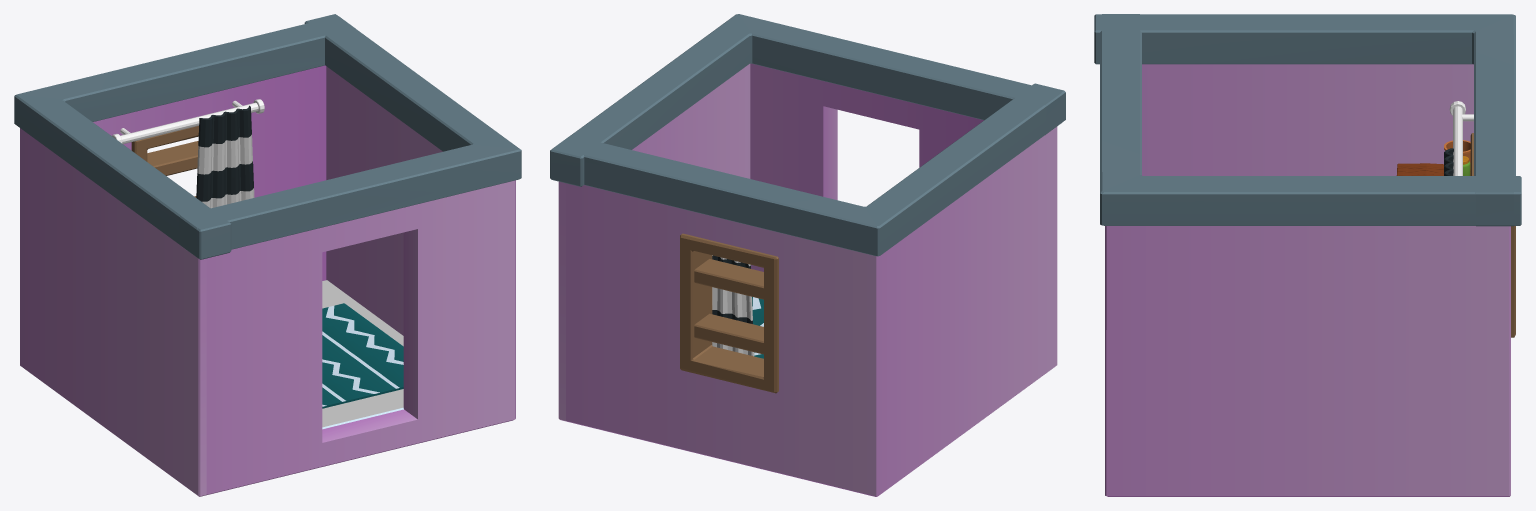
The model's file is TutorialLevel.fbx.
3 renders of one model, left to right at view 1: azimuth 30°, elevation 25°; view 2: azimuth 150°, elevation 25°; view 3: azimuth 270°, elevation 25°, orthographic. The views are drawn at different scales.
Visible parts, largest first — view 1: Wall.001, Wall, TutorialRoom; view 2: Wall, Wall.001, TutorialRoom; view 3: Wall.001, Wall, TutorialRoom, WoodPlank.001.
Part boxes in pixels (x1,y1,x2,y2): Wall.001: (179,14,521,495); Wall: (14,16,355,496); TutorialRoom: (112,99,403,429); Wall: (554,83,1065,496); Wall.001: (550,14,1063,421); TutorialRoom: (680,233,778,393); Wall.001: (1100,14,1521,496); Wall: (1094,14,1515,226); TutorialRoom: (1444,101,1515,337); WoodPlank.001: (1396,163,1470,175).
Bounding box in the file's own units: 2.51 × 2 × 2.53.
